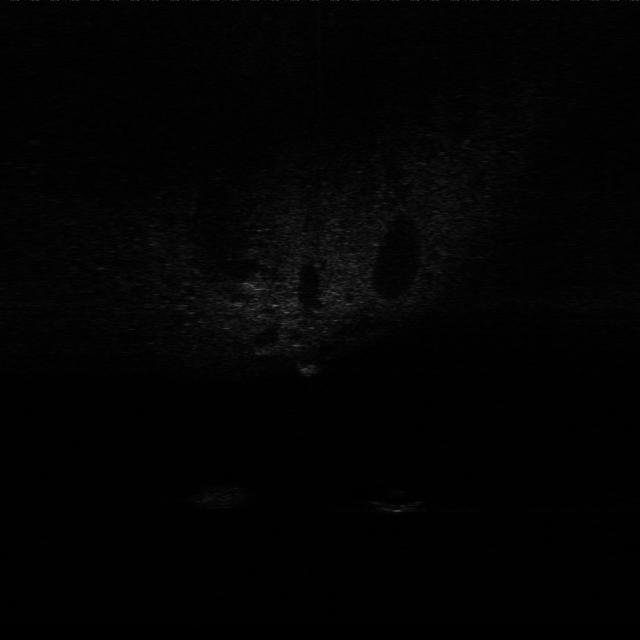ball: (370, 478, 430, 513)
circle cage: (190, 470, 250, 509)
cube: (292, 352, 326, 378)
